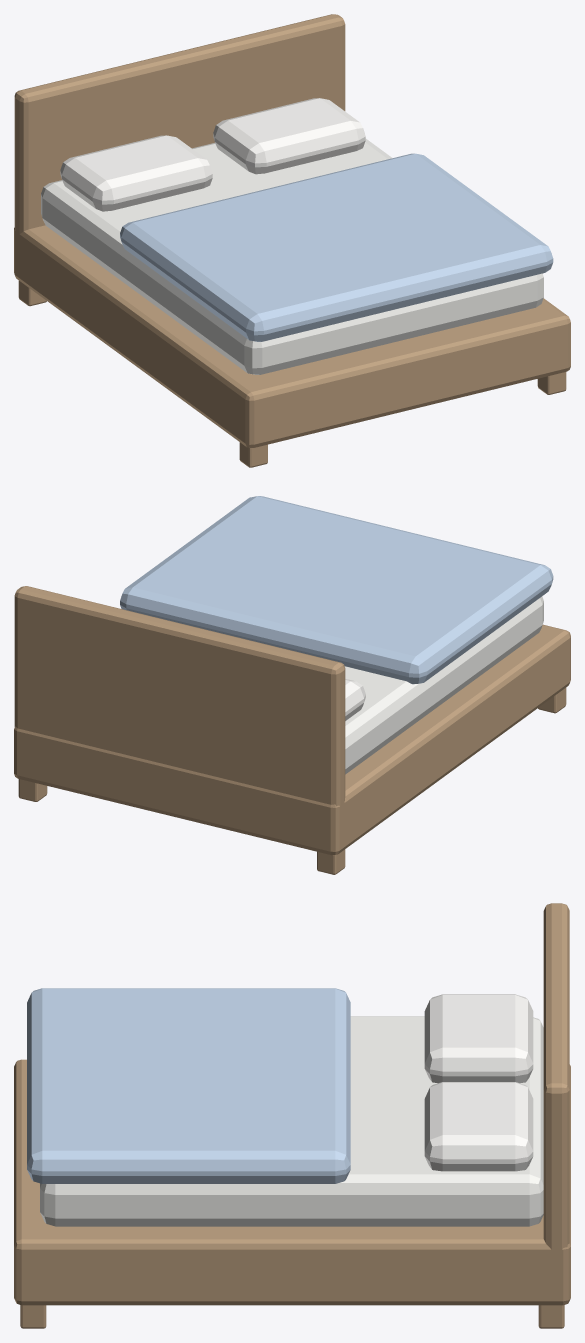
File: th_bett.glb
3 renders of one model, top to bottom at view 1: azimuth 30°, elevation 25°; view 2: azimuth 150°, elevation 25°; view 3: azimuth 270°, elevation 25°, orthographic. The views are drawn at different scales.
Parts seen in each view (by area): view 1: bett; view 2: bett; view 3: bett.
Boxes of the visible parts, x1=… form: bett: x1=14, y1=14, x2=570, y2=467; bett: x1=14, y1=496, x2=570, y2=874; bett: x1=14, y1=903, x2=570, y2=1328.
Bounding box in the file's own units: 1.7 × 1.05 × 2.15.
